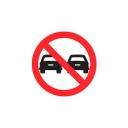NoUltrapassar: (30, 30, 98, 98)
